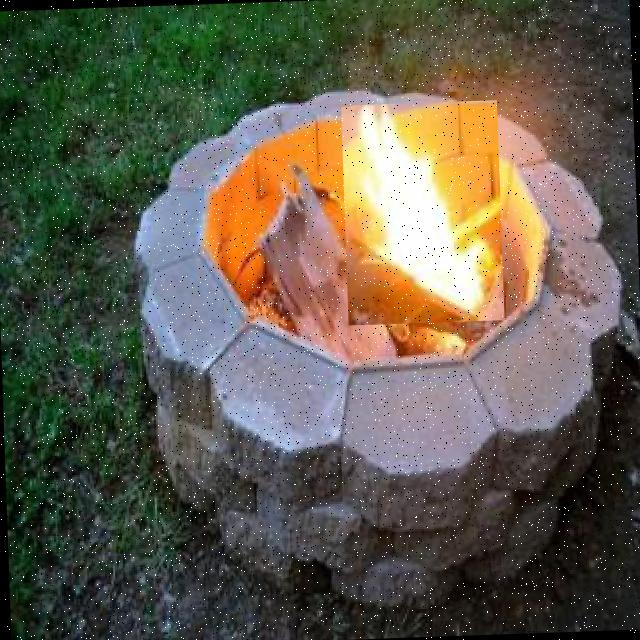fire: (340, 100, 504, 325)
